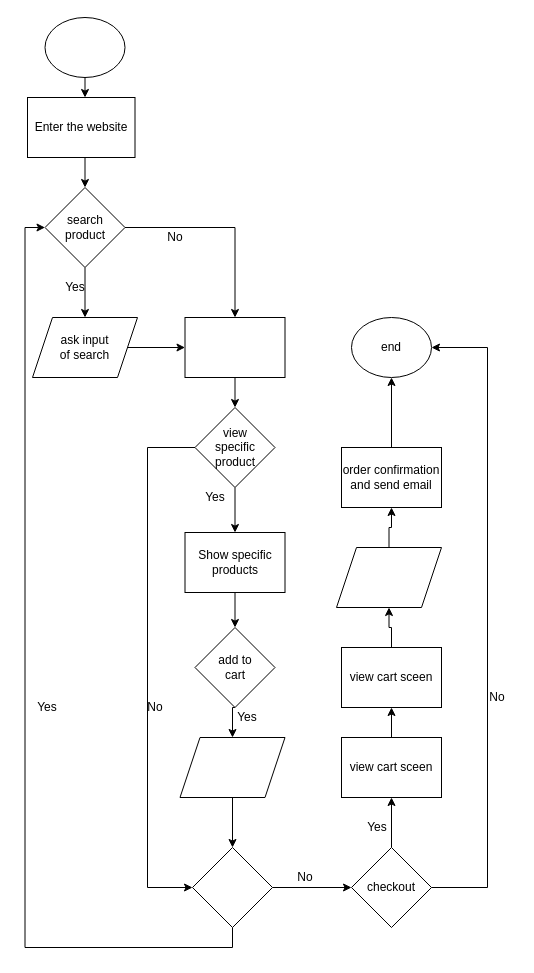
Image size: 534x973. Some labels were removed from this diagram. The shapes that lost their labels are listed below. From the top down, each one's centre as x and y in pixels, then its label:
At [84,47]: "start".
At [234,347]: "Show products to user".
At [389,577]: "input payment info".
At [232,767]: "added confirmation".
At [232,887]: "continue shopping".
